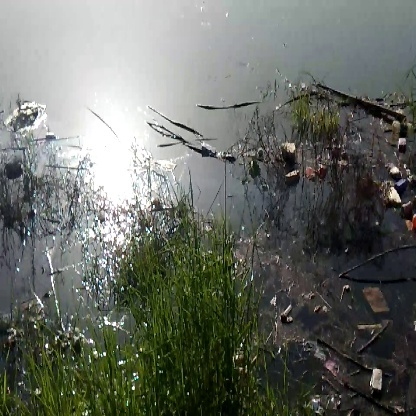branch: (318, 81, 412, 124)
